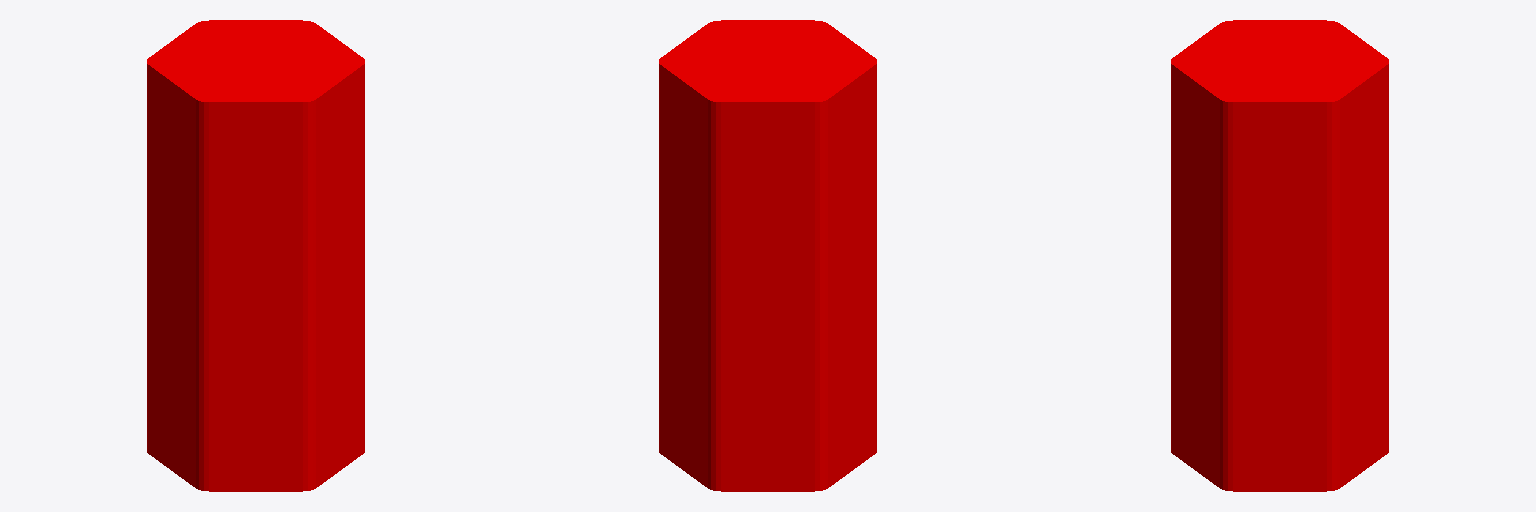
URDF robot description (Large_Short_Hexagon_Red):
<?xml version="1.0"?>
<robot name="Large_Short_Hexagon_Red">
    <link name="Large_Short_Hexagon_Red">
        <visual>
            <geometry>
                <mesh filename="../mesh/factory_insertion/Large_Short_Hexagon_Red.obj" scale="0.001 0.001 0.001"/>
            </geometry>
            <material name="Red">
              <color rgba="1.0 0 0 0"/>
            </material>
        </visual>
        <collision>
            <geometry>
                <mesh filename="../mesh/factory_insertion/Large_Short_Hexagon_Red.obj" scale="0.001 0.001 0.001"/>
            </geometry>
            <sdf resolution="512"/>
        </collision>
    </link>
</robot>

--- Render facts (derived) ---
The picture shows the robot from 3 angles, left to right: view 1: azimuth 30°, elevation 25°; view 2: azimuth 150°, elevation 25°; view 3: azimuth 270°, elevation 25°; orthographic projection.
Robot: Large_Short_Hexagon_Red — 1 links, 0 joints (none); root link Large_Short_Hexagon_Red; default pose: every joint at zero.
Visible links, largest first — view 1: Large_Short_Hexagon_Red; view 2: Large_Short_Hexagon_Red; view 3: Large_Short_Hexagon_Red.
Boxes of the visible links, left/top/right/bottom form: Large_Short_Hexagon_Red: left=147, top=20, right=364, bottom=491; Large_Short_Hexagon_Red: left=659, top=20, right=876, bottom=491; Large_Short_Hexagon_Red: left=1171, top=20, right=1388, bottom=491.
Bounding box of the posed robot: 0.0452 × 0.051 × 0.1 m (x, y, z).
1 mesh visuals loaded from 1 distinct referenced files (1 OBJ).
